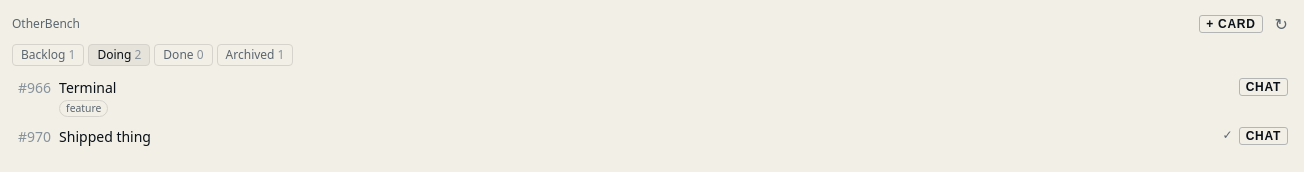
DeckTab › a card deleted elsewhere shows the error, drops the cached card and reloads the list
This screenshot has width=1304, height=172.
Click the button with test id "card-row-966".
click(88, 88)  # box [12,74,1239,121]
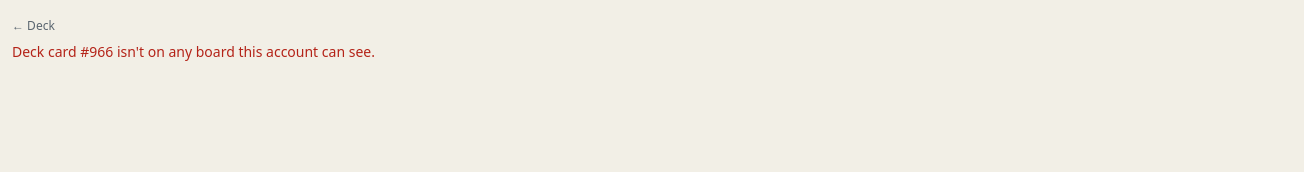
expect the message reads "Deck card #966 isn't on any board this account can see.": met, box [12,42,375,61]
